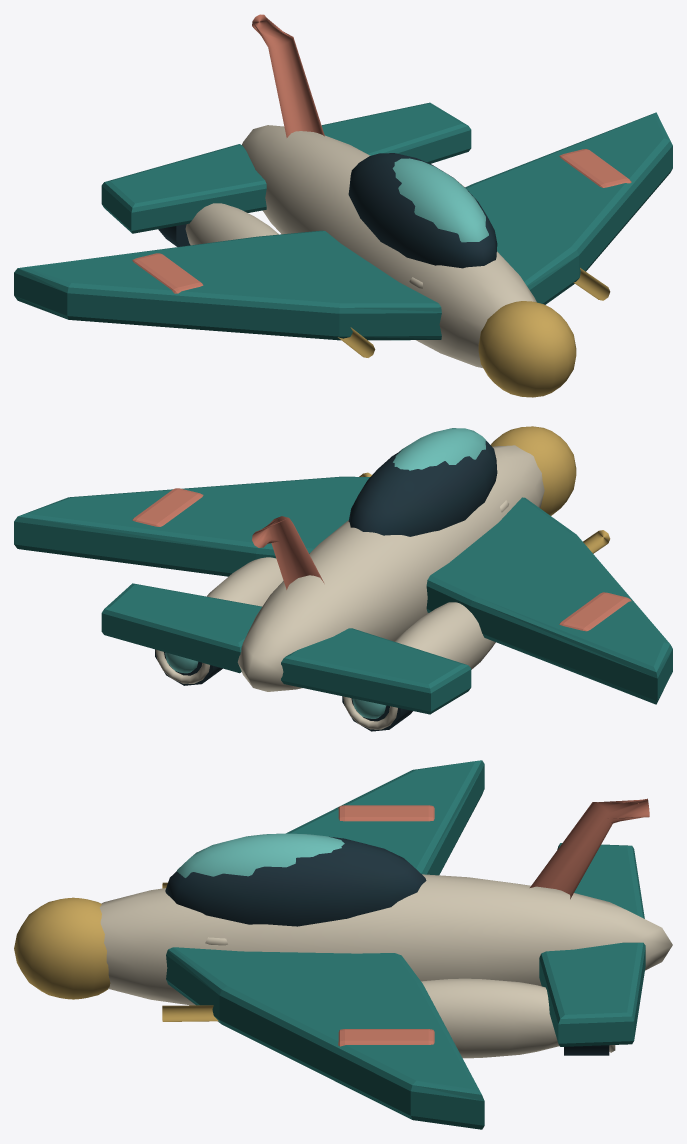
File: defender-plane-lod1.glb
3 renders of one model, top to bottom at view 1: azimuth 30°, elevation 25°; view 2: azimuth 150°, elevation 25°; view 3: azimuth 270°, elevation 25°, orthographic. The views are drawn at different scales.
Parts seen in each view (by area): view 1: shell, emission; view 2: shell, emission; view 3: shell, emission.
Part boxes in pixels (<box>): shell: <box>14,14,672,397</box>; emission: <box>392,158,488,242</box>; shell: <box>14,426,672,731</box>; emission: <box>165,428,488,718</box>; shell: <box>14,760,672,1129</box>; emission: <box>177,833,344,877</box>.
Size of the model in its own units: 2.95 by 0.8648 by 2.44.
